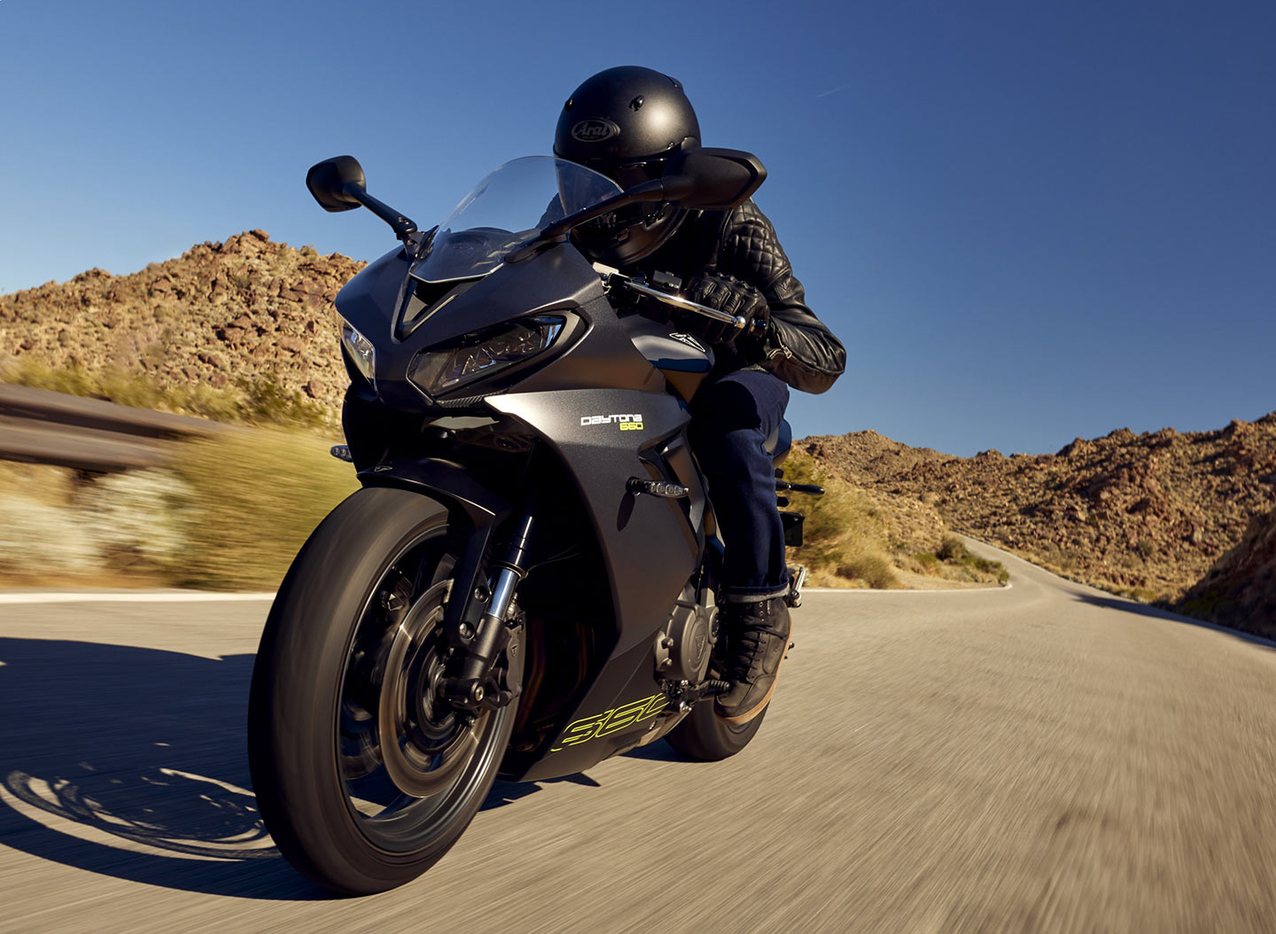Motorcycle: (233, 126, 848, 896)
